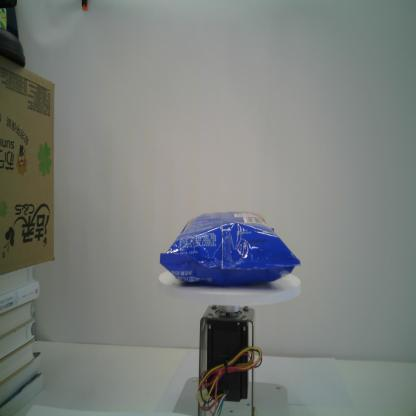Puffed Food: (158, 209, 301, 287)
